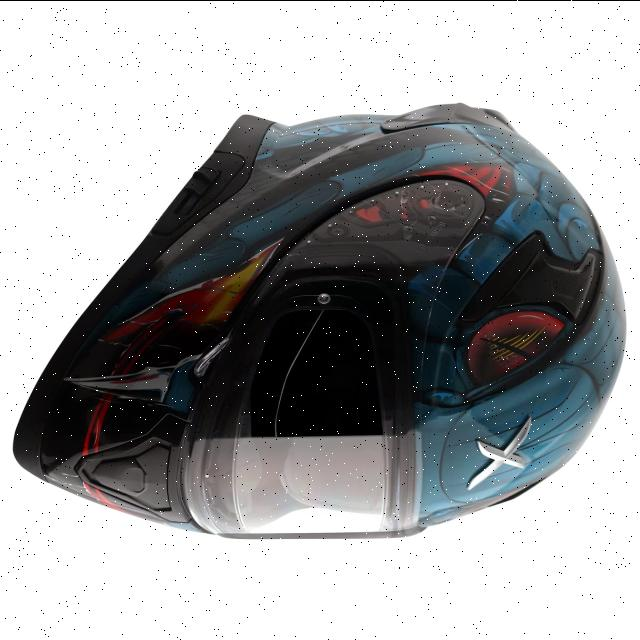Helmet: (15, 102, 624, 538)
